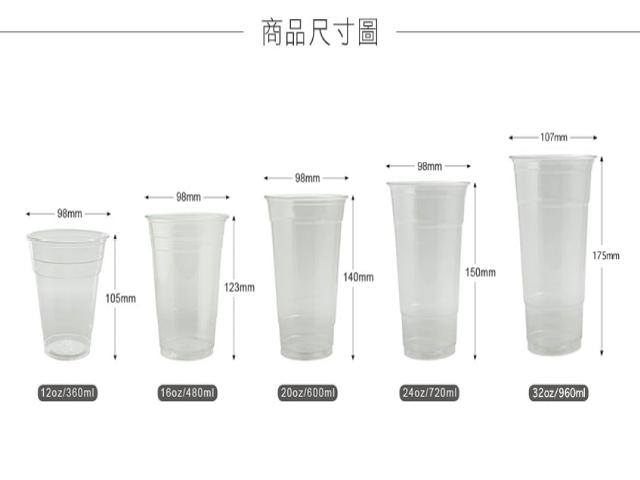cup: (511, 156, 595, 354), (389, 183, 468, 359), (266, 196, 346, 359), (146, 213, 228, 359), (28, 230, 108, 359)
